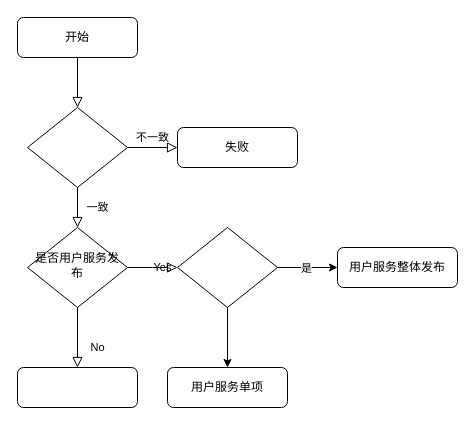
Image size: 475x425. Some labels were removed from this diagram. Each missing label, with the centre of its shape:
"数据库schema检测" goes at point (77, 147).
"是否agent整体发布" goes at point (227, 267).
"系统服务发布" goes at point (77, 387).
